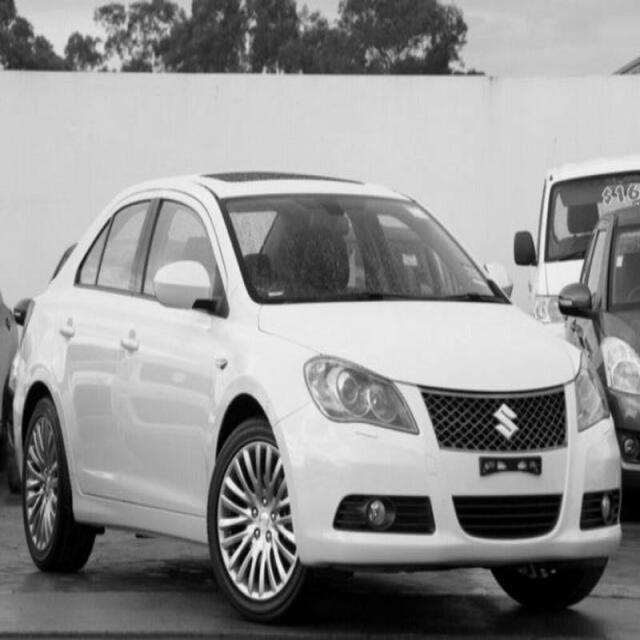car: (6, 169, 624, 623), (558, 200, 639, 499)
